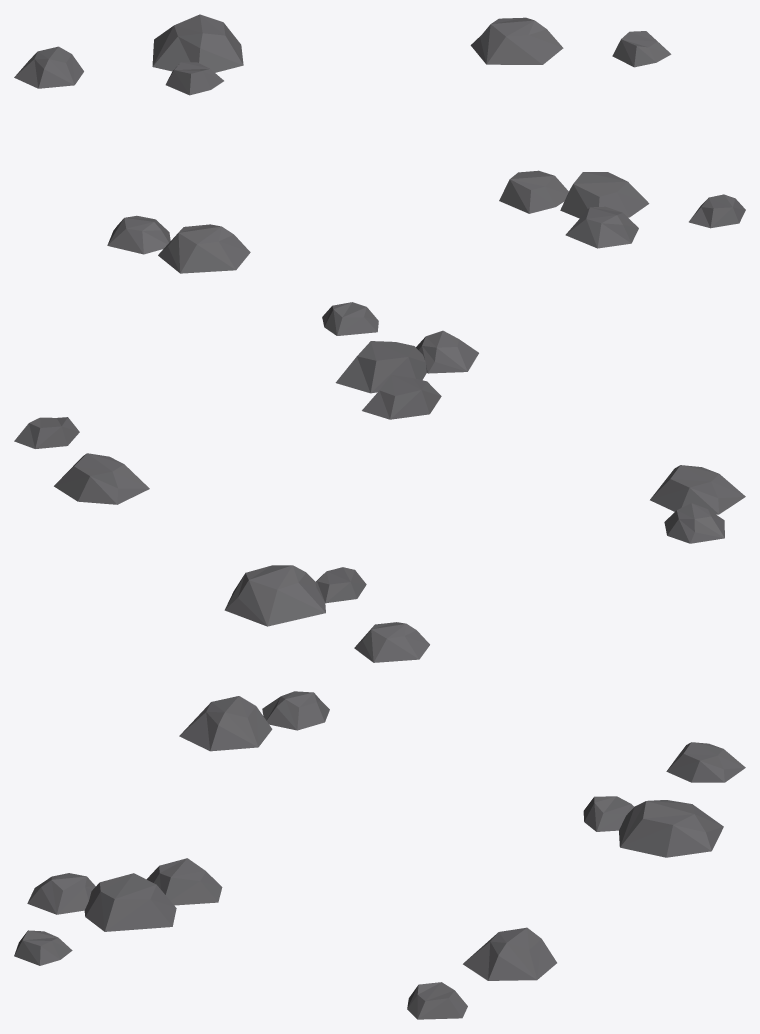
File: SM_Env_Rocks_02.glb
The picture shows the model from 3 angles, top to bottom: view 1: azimuth 30°, elevation 25°; view 2: azimuth 150°, elevation 25°; view 3: azimuth 270°, elevation 25°; orthographic projection. The views are drawn at different scales.
Visible parts, largest first — view 1: SM_Env_Rocks_02_part00; view 2: SM_Env_Rocks_02_part00; view 3: SM_Env_Rocks_02_part00.
Part boxes in pixels (bbox=[...]): SM_Env_Rocks_02_part00: bbox=[14, 14, 745, 273]; SM_Env_Rocks_02_part00: bbox=[14, 302, 745, 662]; SM_Env_Rocks_02_part00: bbox=[14, 691, 745, 1019].
Size of the model in its own units: 4.26 by 0.1982 by 4.11.
Materials: 1 (1 with a texture image).
